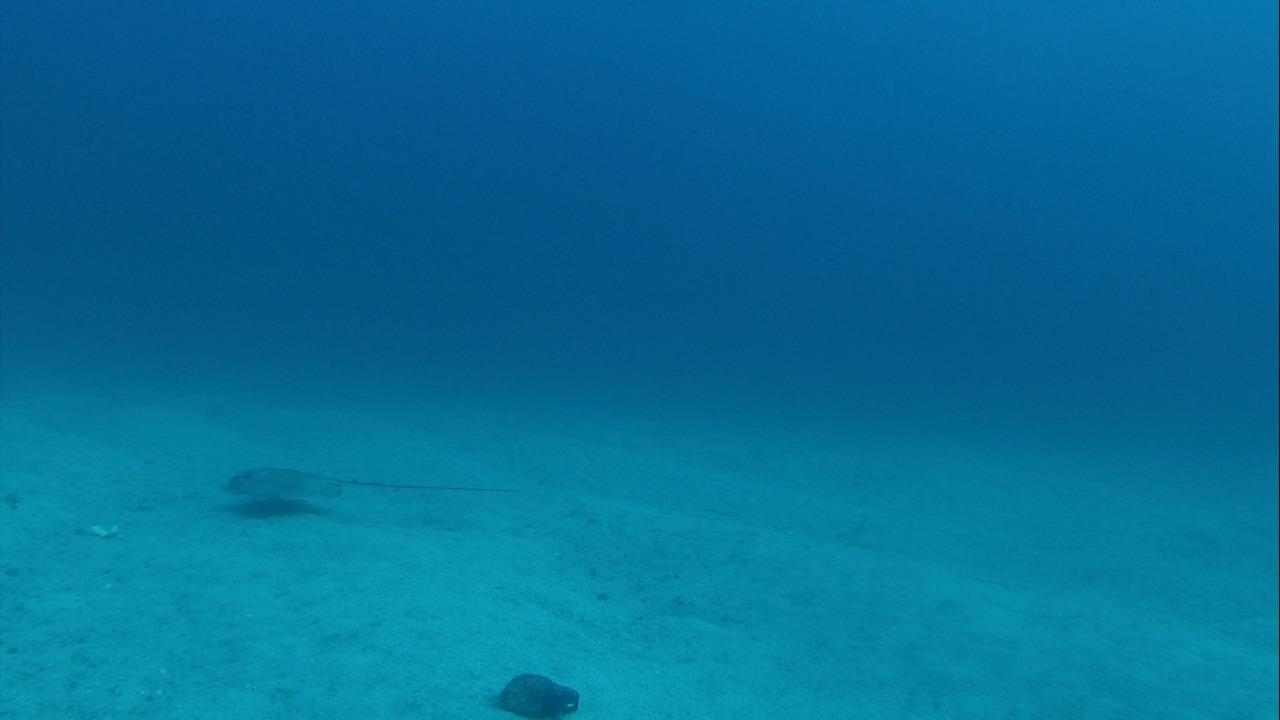myliobatis: (211, 463, 518, 509)
